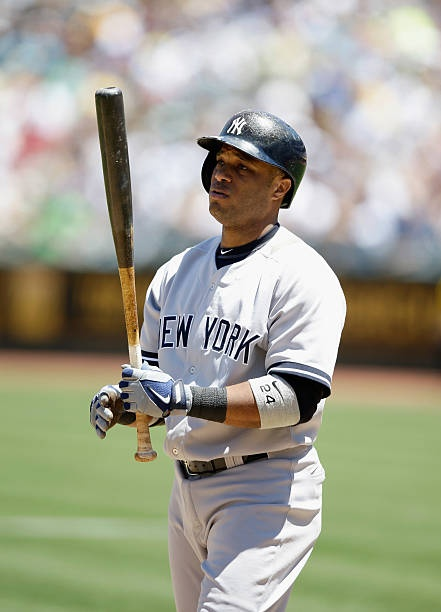bita: (93, 85, 155, 449)
